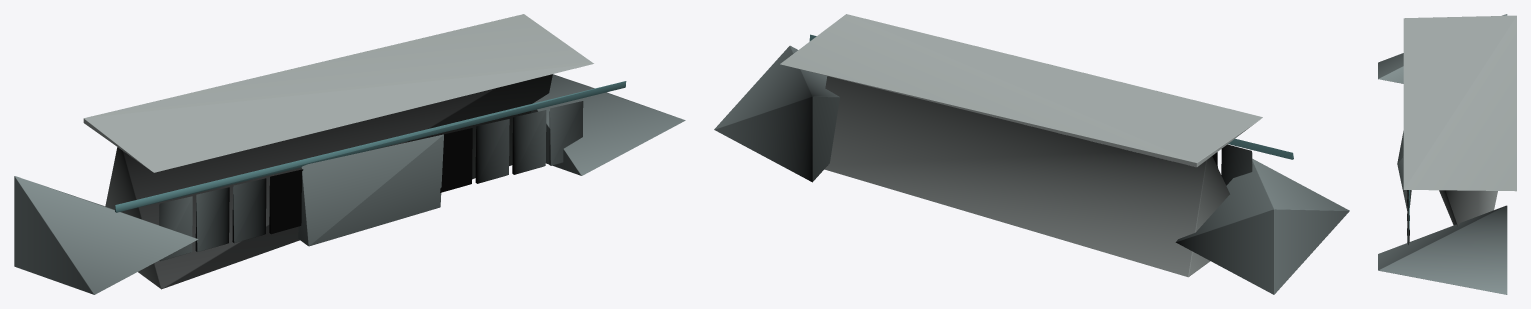
Rendered from temple-core-lod1.glb.
3 views of the same model, side by side, from view 1: azimuth 30°, elevation 25°; view 2: azimuth 150°, elevation 25°; view 3: azimuth 270°, elevation 25° (orthographic). The views are drawn at different scales.
Parts seen in each view (by area): view 1: temple_coping.001, temple_main_mass.001, temple_west_wing.001, entrance_block.001, temple_east_wing.001, mosaic_band.001, relief_panel_01.001, relief_panel_06.001, relief_panel_05.001, relief_panel_02.001, relief_panel_00.001, relief_panel_04.001 (+2 smaller); view 2: temple_main_mass.001, temple_coping.001, temple_west_wing.001, temple_east_wing.001, relief_panel_03.001, mosaic_band.001; view 3: temple_coping.001, temple_east_wing.001, temple_main_mass.001, temple_west_wing.001, entrance_block.001.
Boxes of the visible parts, x1,y1,x2,y2 form: temple_coping.001: (83, 14, 593, 172); temple_main_mass.001: (105, 74, 552, 289); temple_west_wing.001: (14, 176, 198, 294); entrance_block.001: (298, 134, 443, 246); temple_east_wing.001: (531, 74, 685, 175); mosaic_band.001: (115, 81, 626, 212); relief_panel_01.001: (232, 178, 266, 243); relief_panel_06.001: (512, 110, 546, 174); relief_panel_05.001: (475, 119, 509, 183); relief_panel_02.001: (195, 187, 229, 251); relief_panel_00.001: (269, 169, 303, 234); relief_panel_04.001: (440, 128, 472, 192); temple_main_mass.001: (824, 76, 1229, 277); temple_coping.001: (780, 14, 1262, 167); temple_west_wing.001: (1175, 158, 1349, 294); temple_east_wing.001: (714, 45, 839, 182); relief_panel_03.001: (1221, 144, 1252, 185); mosaic_band.001: (809, 34, 1293, 159); temple_coping.001: (1403, 15, 1516, 191); temple_east_wing.001: (1378, 205, 1507, 294); temple_main_mass.001: (1439, 190, 1497, 225); temple_west_wing.001: (1378, 14, 1507, 83); entrance_block.001: (1397, 131, 1411, 210).
Bounding box in the file's own units: 102 × 20.7 × 25.76.
